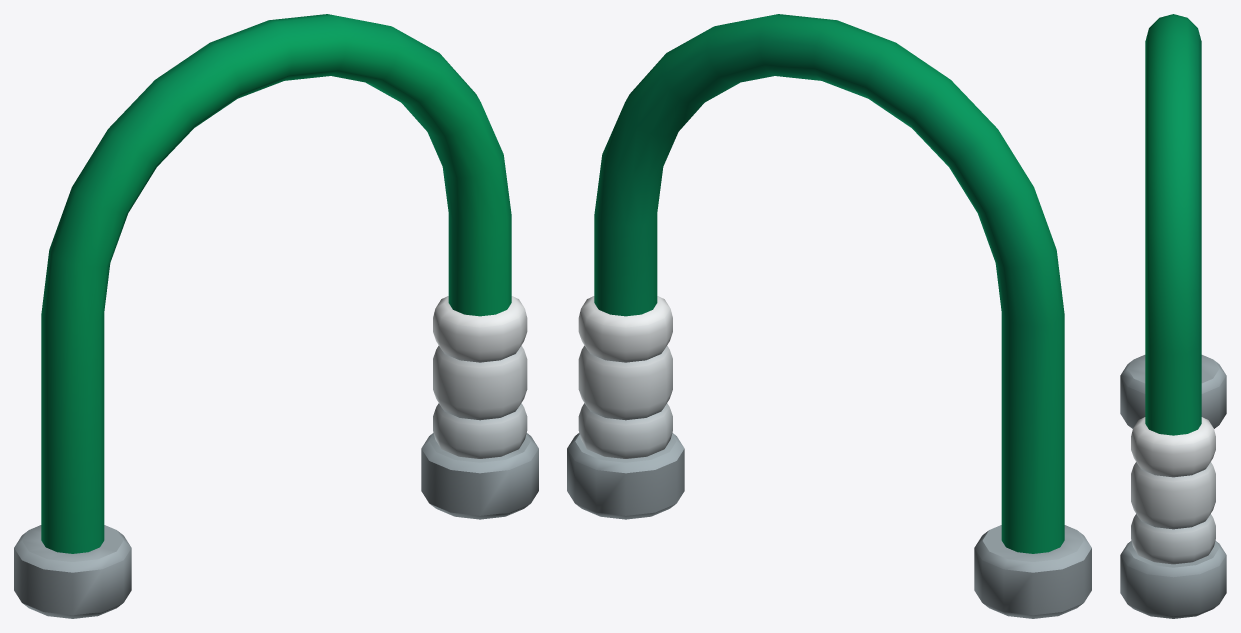
Rendered from arch_green.glb.
The picture shows the model from 3 angles, left to right: view 1: azimuth 30°, elevation 25°; view 2: azimuth 150°, elevation 25°; view 3: azimuth 270°, elevation 25°; orthographic projection. The views are drawn at different scales.
Visible parts, largest first — view 1: arch_green; view 2: arch_green; view 3: arch_green.
Part boxes in pixels (x1,y1,x2,y2): arch_green: (14, 14, 538, 618); arch_green: (567, 14, 1091, 618); arch_green: (1120, 14, 1226, 618).
Size of the model in its own units: 3.75 by 3.7 by 0.75.
Materials: 1 (1 with a texture image).
